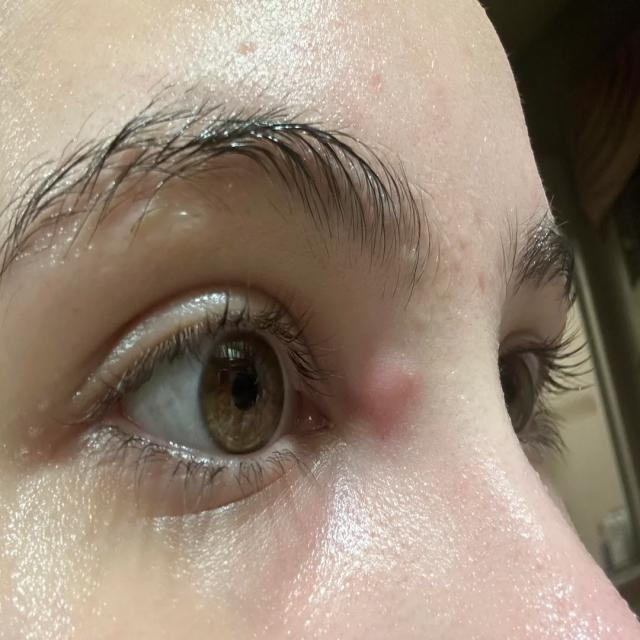nodule: (358, 354, 413, 427)
